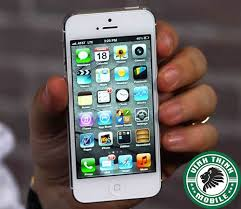iphone: (62, 7, 160, 202)
iphone5: (62, 7, 160, 202)
